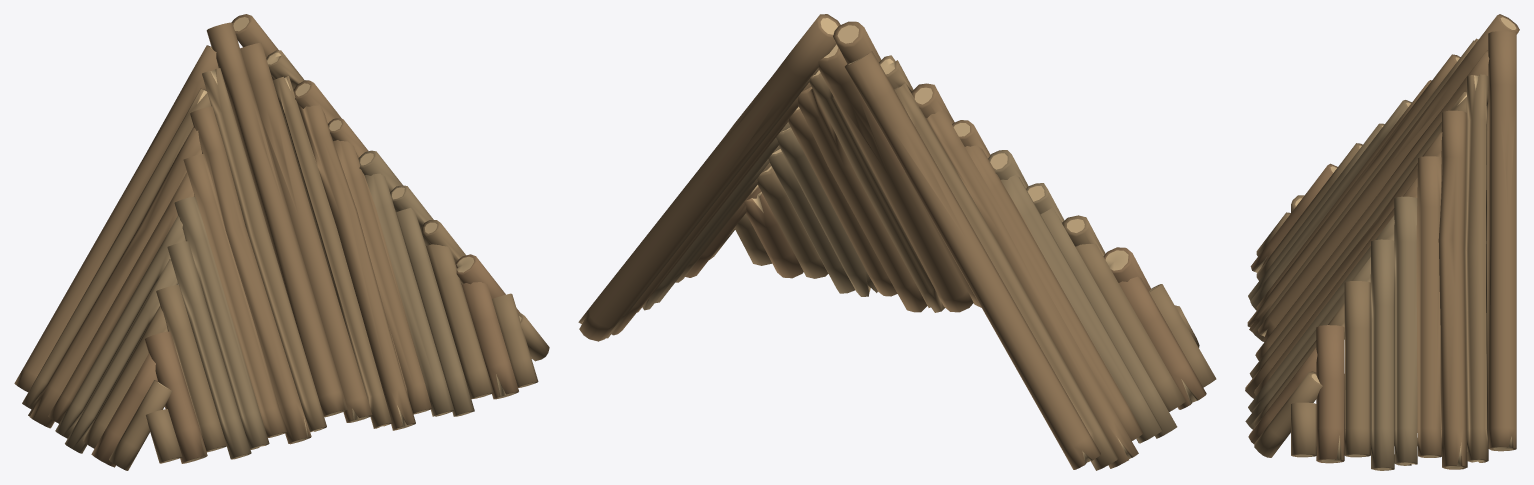
The model's file is rpgpp_ag_roof_01_6x5x3_end_02.fbx.
The picture shows the model from 3 angles, left to right: view 1: azimuth 30°, elevation 25°; view 2: azimuth 150°, elevation 25°; view 3: azimuth 270°, elevation 25°; orthographic projection. The views are drawn at different scales.
Parts seen in each view (by area): view 1: rpgpp_ag_roof_01_6x5x3_end_02; view 2: rpgpp_ag_roof_01_6x5x3_end_02; view 3: rpgpp_ag_roof_01_6x5x3_end_02.
Boxes of the visible parts, box(x1,y1,x2,y2) form: rpgpp_ag_roof_01_6x5x3_end_02: box(14, 14, 549, 470); rpgpp_ag_roof_01_6x5x3_end_02: box(578, 14, 1216, 470); rpgpp_ag_roof_01_6x5x3_end_02: box(1245, 14, 1519, 470).
Size of the model in its own units: 8.09 by 5.84 by 4.11.
